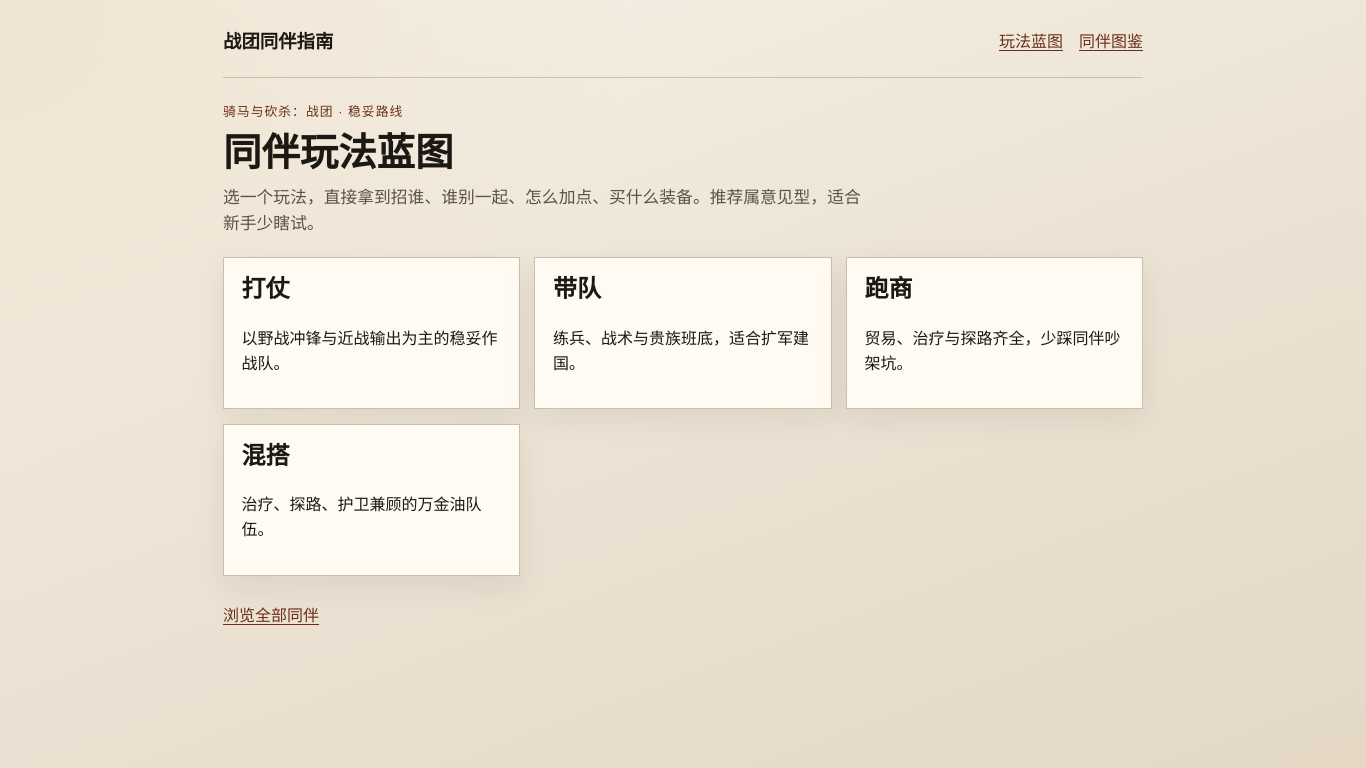
Test: BlueprintPage › shows trade blueprint with recruit, conflict, build and gear, without multi-plan switch
Click the link "跑商 贸易、治疗与探路齐全，少踩同伴吵架坑。".
click(994, 333)  # box [846, 257, 1143, 409]
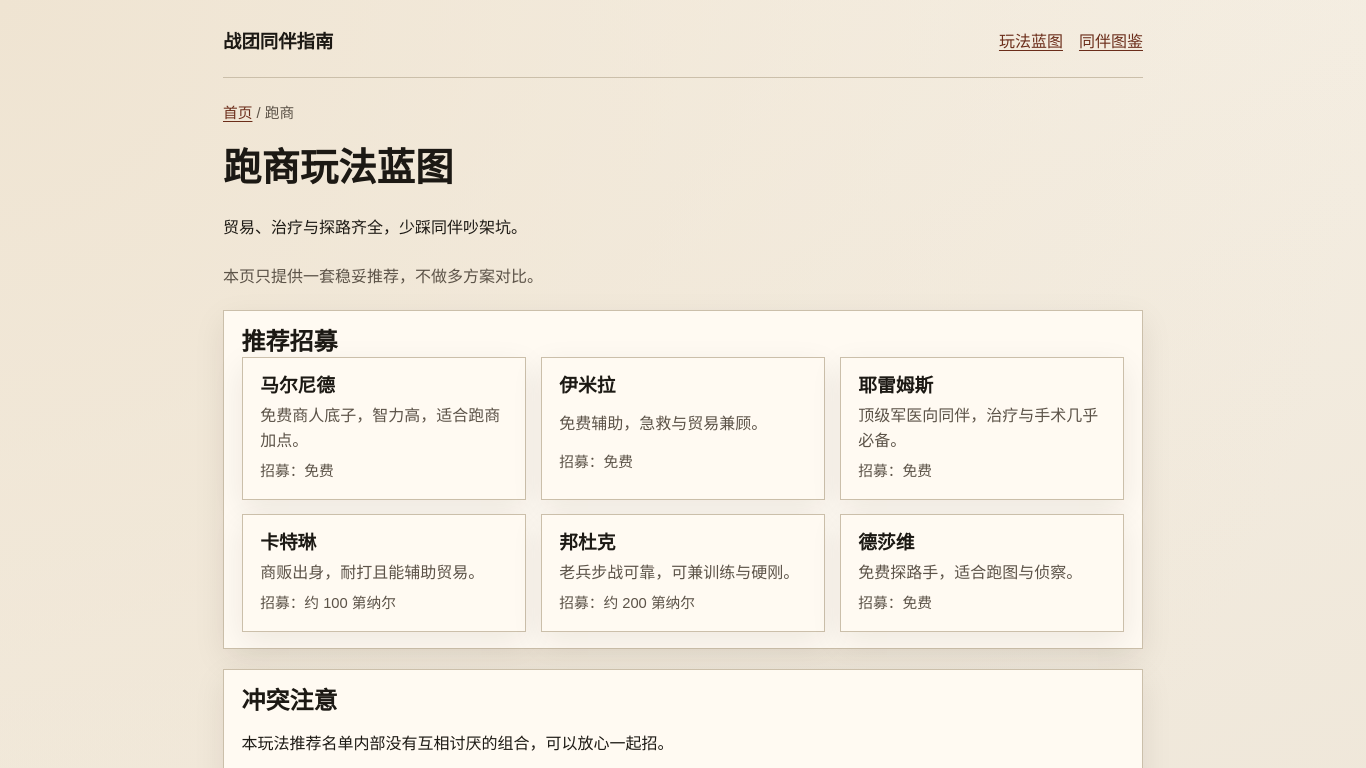
expect the heading "跑商玩法蓝图" is shown: met, box [223, 147, 453, 189]
expect the heading "推荐招募" is shown: met, box [242, 329, 338, 355]
expect the heading "冲突注意" is shown: met, box [242, 688, 338, 714]
